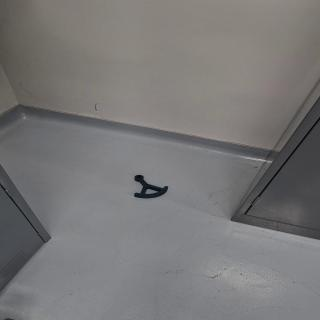haptic: (134, 174, 169, 198)
